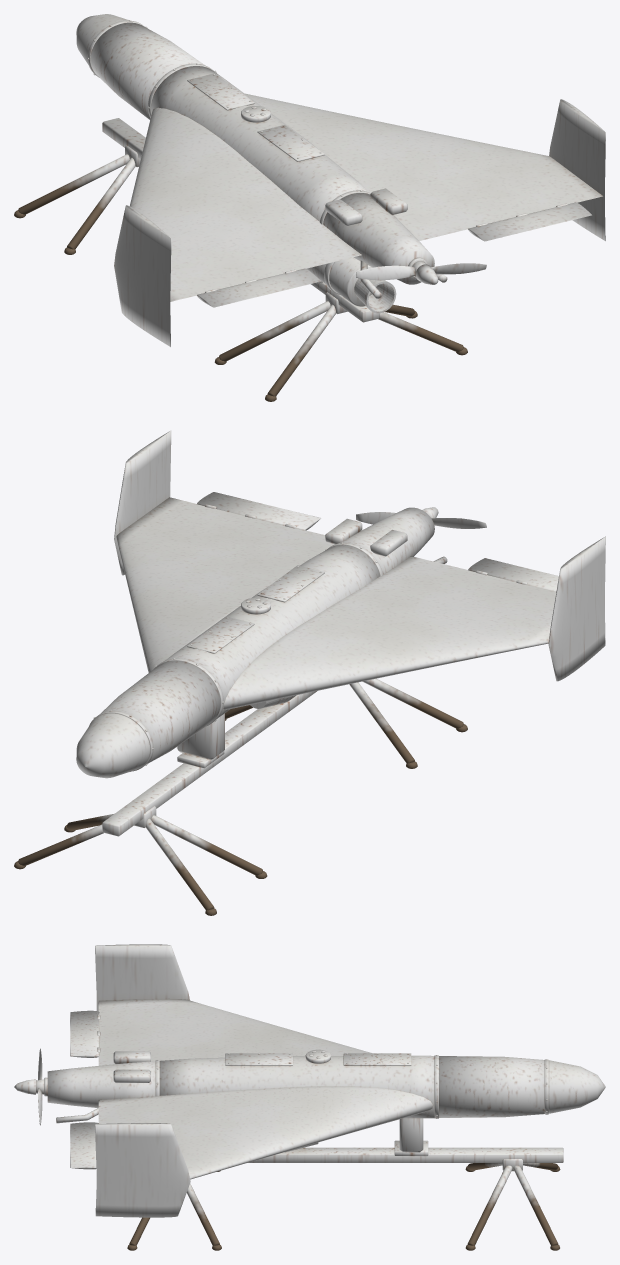
File: drone-shahed136.glb
3 renders of one model, top to bottom at view 1: azimuth 30°, elevation 25°; view 2: azimuth 150°, elevation 25°; view 3: azimuth 270°, elevation 25°, orthographic. The views are drawn at different scales.
Parts seen in each view (by area): view 1: grey_wing_l, grey_wing_r, grey_mid_shell, grey_wingtip_fin_l, grey_warhead_section_shell, grey_wingtip_fin_r, grey_tail_cowling_shell, steel_launch_stand_aft, grey_access_panels, steel_launch_stand_fwd, grey_elevon_r, grey_elevon_l (+7 smaller); view 2: grey_wing_l, grey_wing_r, grey_mid_shell, grey_warhead_section_shell, grey_wingtip_fin_l, steel_launch_rail, grey_nose_housing, grey_wingtip_fin_r, steel_launch_stand_fwd, grey_tail_cowling_shell, grey_access_panels, steel_launch_stand_aft (+6 smaller); view 3: grey_wing_r, grey_wing_l, grey_wingtip_fin_r, grey_mid_shell, grey_warhead_section_shell, grey_wingtip_fin_l, steel_launch_rail, grey_tail_cowling_shell, grey_nose_housing, steel_launch_stand_fwd, grey_access_panels, grey_elevon_l (+5 smaller).
Boxes of the visible parts, x1,y1,x2,y2 form: grey_wing_l: [130, 107, 361, 301]; grey_wing_r: [245, 93, 602, 240]; grey_mid_shell: [151, 66, 369, 221]; grey_wingtip_fin_l: [114, 205, 171, 346]; grey_warhead_section_shell: [90, 22, 204, 119]; grey_wingtip_fin_r: [549, 99, 605, 240]; grey_tail_cowling_shell: [323, 193, 434, 284]; steel_launch_stand_aft: [219, 301, 463, 396]; grey_access_panels: [187, 73, 324, 161]; steel_launch_stand_fwd: [18, 154, 135, 249]; grey_elevon_r: [468, 202, 591, 241]; grey_elevon_l: [197, 268, 321, 307]; grey_wing_l: [223, 556, 556, 710]; grey_wing_r: [116, 497, 334, 672]; grey_mid_shell: [165, 545, 379, 717]; grey_warhead_section_shell: [100, 660, 220, 763]; grey_wingtip_fin_l: [548, 536, 605, 681]; steel_launch_rail: [102, 691, 316, 836]; grey_nose_housing: [76, 713, 150, 778]; grey_wingtip_fin_r: [114, 430, 171, 575]; steel_launch_stand_fwd: [18, 813, 262, 910]; grey_tail_cowling_shell: [340, 507, 434, 574]; grey_access_panels: [187, 565, 324, 653]; steel_launch_stand_aft: [225, 678, 463, 763]; grey_wing_r: [98, 1086, 432, 1179]; grey_wing_l: [98, 998, 371, 1065]; grey_wingtip_fin_r: [95, 1123, 190, 1217]; grey_mid_shell: [159, 1055, 434, 1118]; grey_warhead_section_shell: [439, 1056, 544, 1117]; grey_wingtip_fin_l: [95, 944, 189, 1011]; steel_launch_rail: [248, 1147, 563, 1162]; grey_tail_cowling_shell: [47, 1061, 155, 1107]; grey_nose_housing: [548, 1060, 605, 1113]; steel_launch_stand_fwd: [467, 1163, 558, 1245]; grey_access_panels: [225, 1053, 411, 1065]; grey_elevon_l: [70, 1010, 99, 1057].
Bounding box in the file's own units: 2.54 × 1.14 × 3.5.
Materials: 1 (1 with a texture image).
